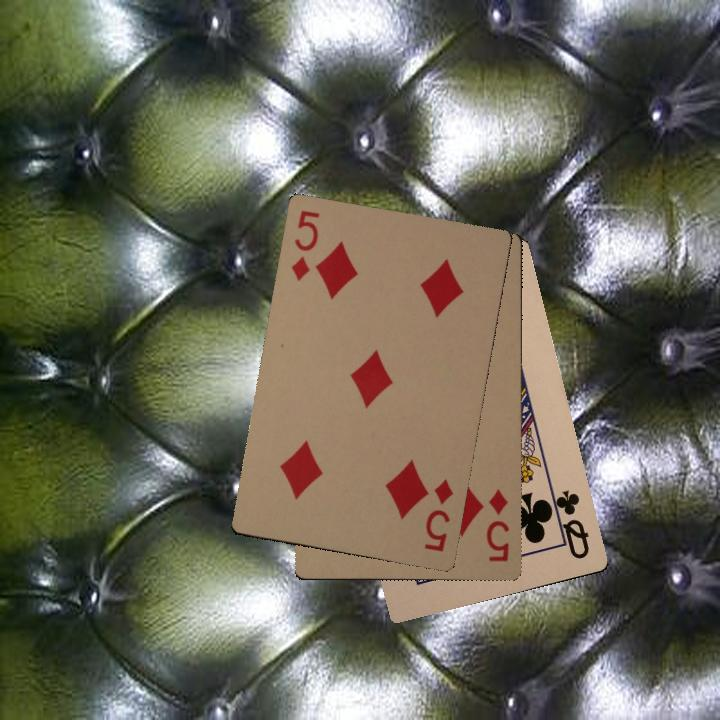5d: (420, 475, 456, 554), (287, 206, 322, 283), (482, 486, 512, 564)
Qc: (546, 485, 592, 562)
